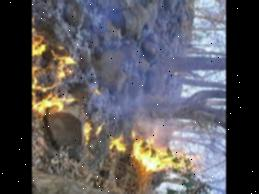fire: (85, 118, 201, 175), (32, 36, 90, 110)
